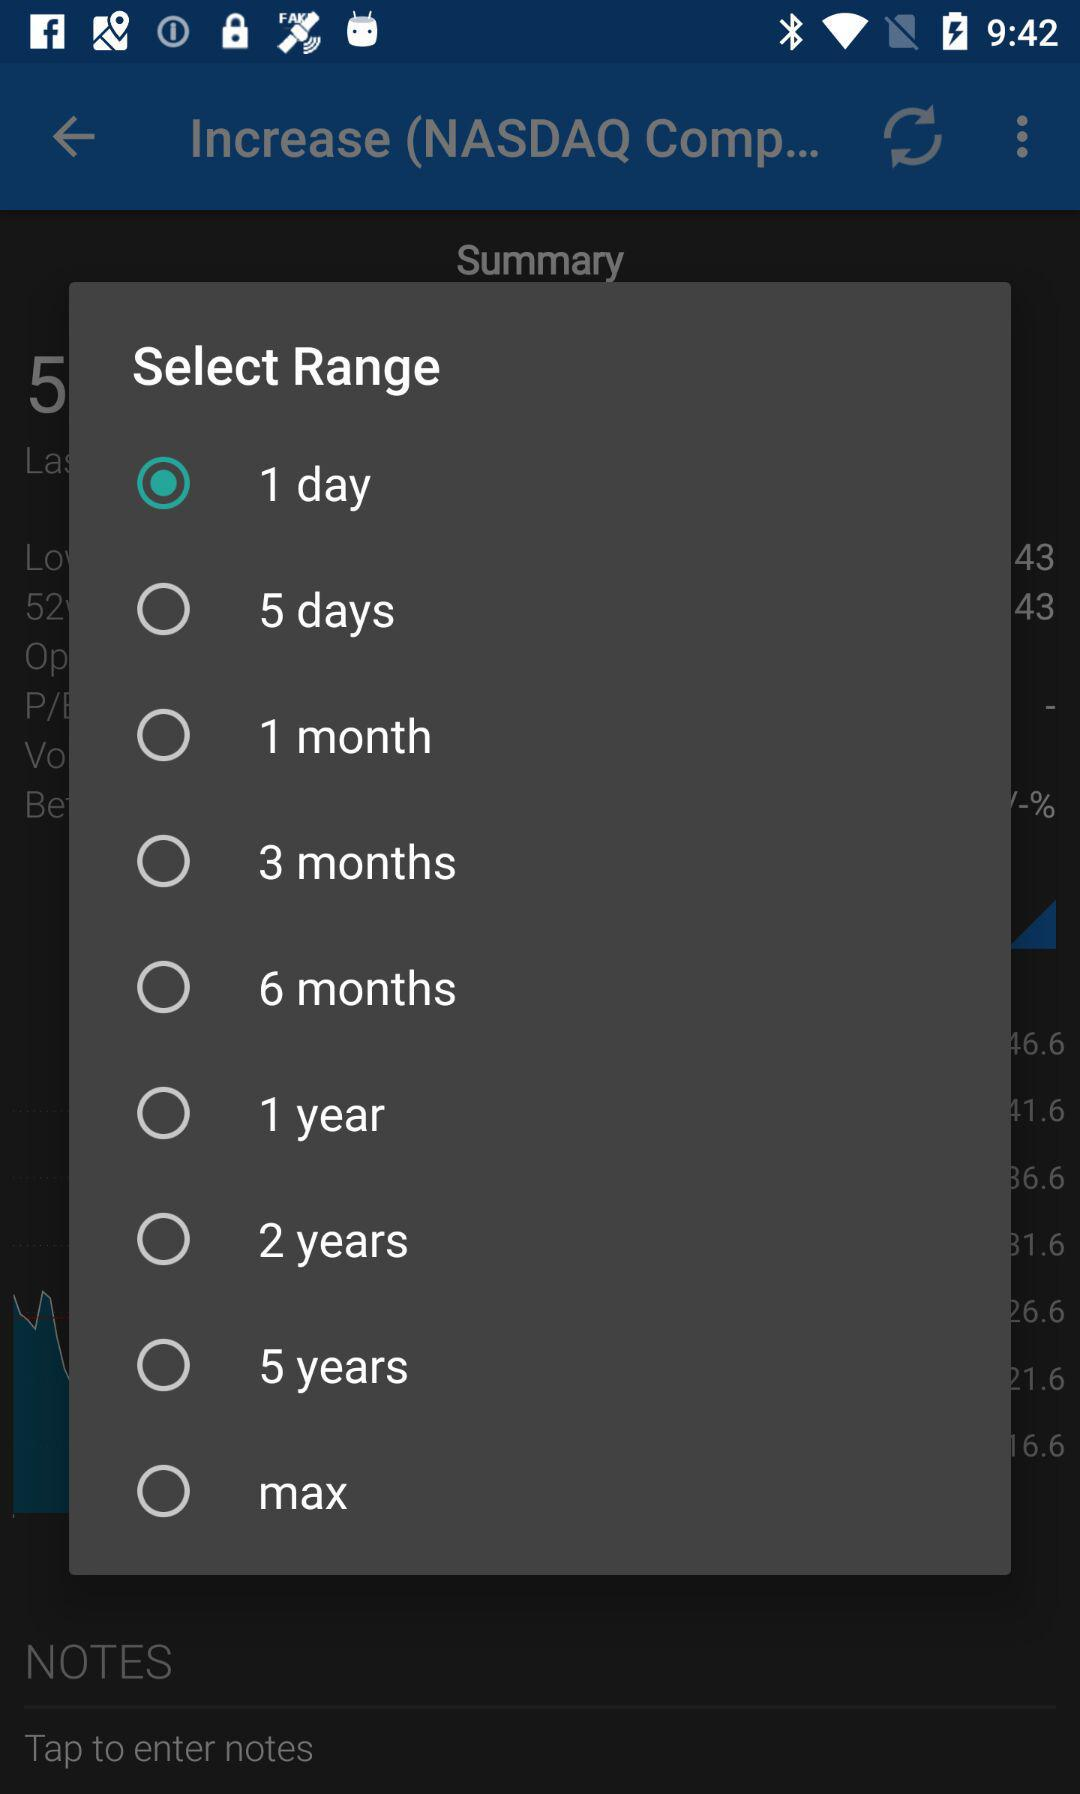CheckedTextView: (137, 834, 457, 888), (137, 961, 456, 1014), (137, 709, 430, 762), (137, 1338, 409, 1395), (137, 1212, 409, 1269), (137, 582, 396, 639), (137, 1087, 386, 1143), (137, 457, 373, 513), (137, 1465, 350, 1518)
Icon: (881, 105, 942, 170), (53, 115, 97, 160), (1015, 113, 1029, 160)
Modal: (69, 283, 1012, 1576)
Text: (191, 114, 817, 169), (135, 345, 439, 397), (24, 1734, 313, 1768), (259, 842, 457, 883), (261, 970, 456, 1007), (261, 1348, 409, 1395), (258, 1222, 409, 1269), (263, 716, 430, 756), (261, 591, 396, 639), (261, 1096, 386, 1143), (28, 1644, 173, 1681), (261, 466, 373, 513), (260, 1483, 350, 1511)
UpperTaskBar: (1, 1, 1080, 64)
